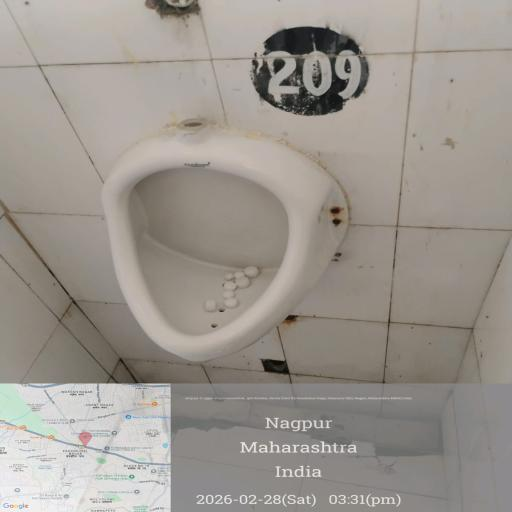clean_floor: (2, 154, 110, 366), (370, 150, 504, 310)
clean_urinal: (99, 142, 322, 338)
partial_dirty_floor: (0, 8, 512, 134), (61, 338, 320, 390), (290, 321, 507, 381)
